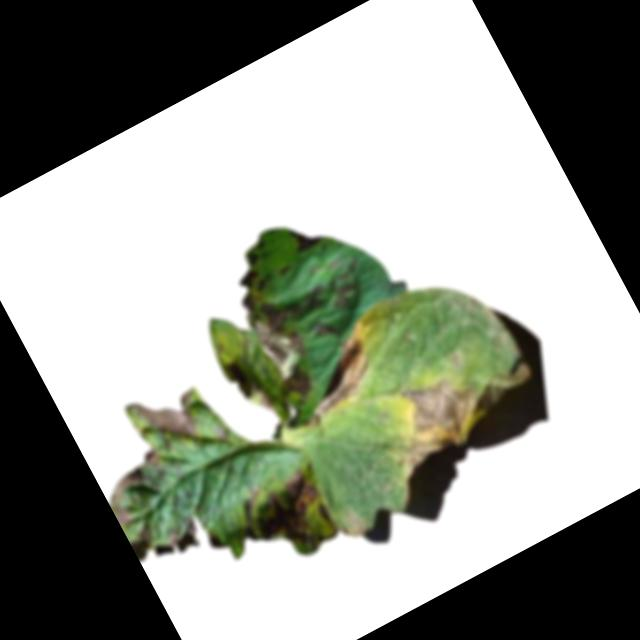Early_blight: (233, 262, 359, 401), (372, 358, 495, 473), (226, 459, 336, 566), (279, 332, 387, 429), (130, 375, 214, 463), (97, 449, 179, 526), (283, 213, 326, 256), (220, 356, 254, 401), (235, 266, 266, 295), (158, 525, 182, 549)
